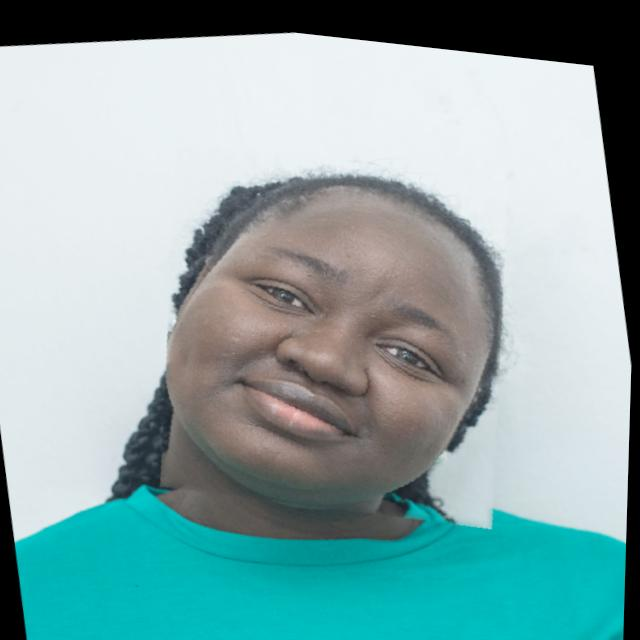happy: (125, 95, 548, 557)
